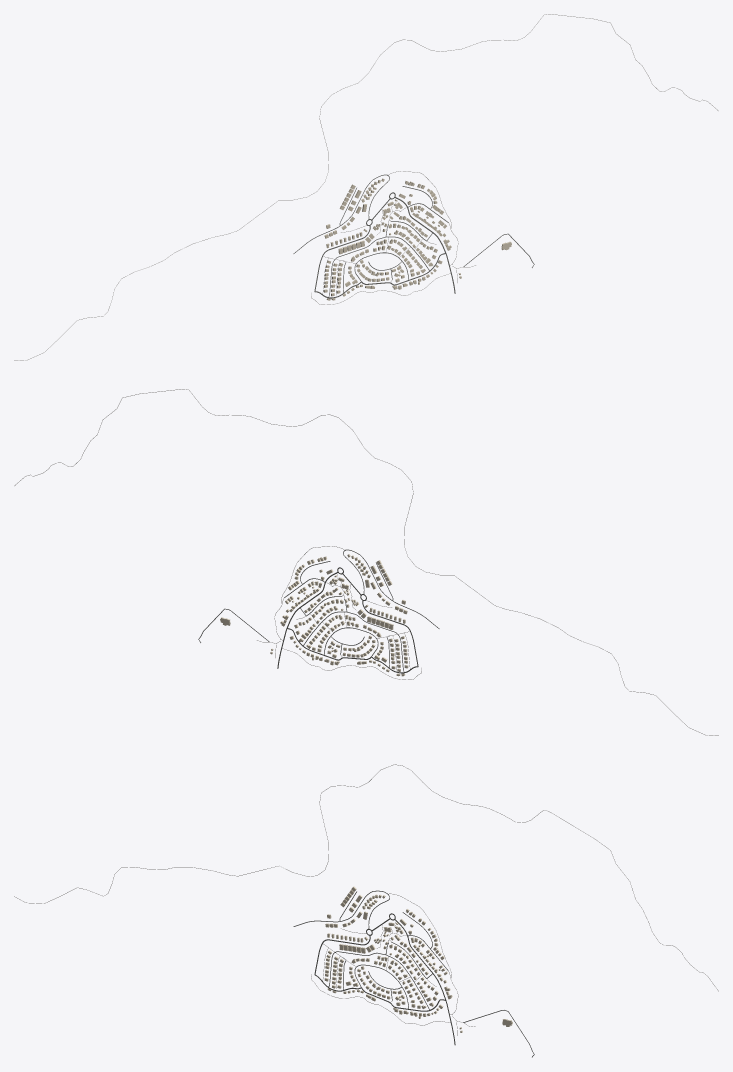
File: historic-palestine-09_26_3506_3207.glb
3 renders of one model, top to bottom at view 1: azimuth 30°, elevation 25°; view 2: azimuth 150°, elevation 25°; view 3: azimuth 330°, elevation 25°, orthographic.
Visible parts, largest first — view 1: Road דרך מקימי האלה לשם; view 2: Road דרך מקימי האלה לשם; view 3: Road דרך מקימי האלה לשם.
Boxes of the visible parts, box(x1,y1,x2,y2) form: Road דרך מקימי האלה לשם: box(14, 14, 718, 360); Road דרך מקימי האלה לשם: box(14, 389, 718, 735); Road דרך מקימי האלה לשם: box(14, 764, 718, 991).
Bounding box in the file's own units: 3488 × 1262 × 8.7.
